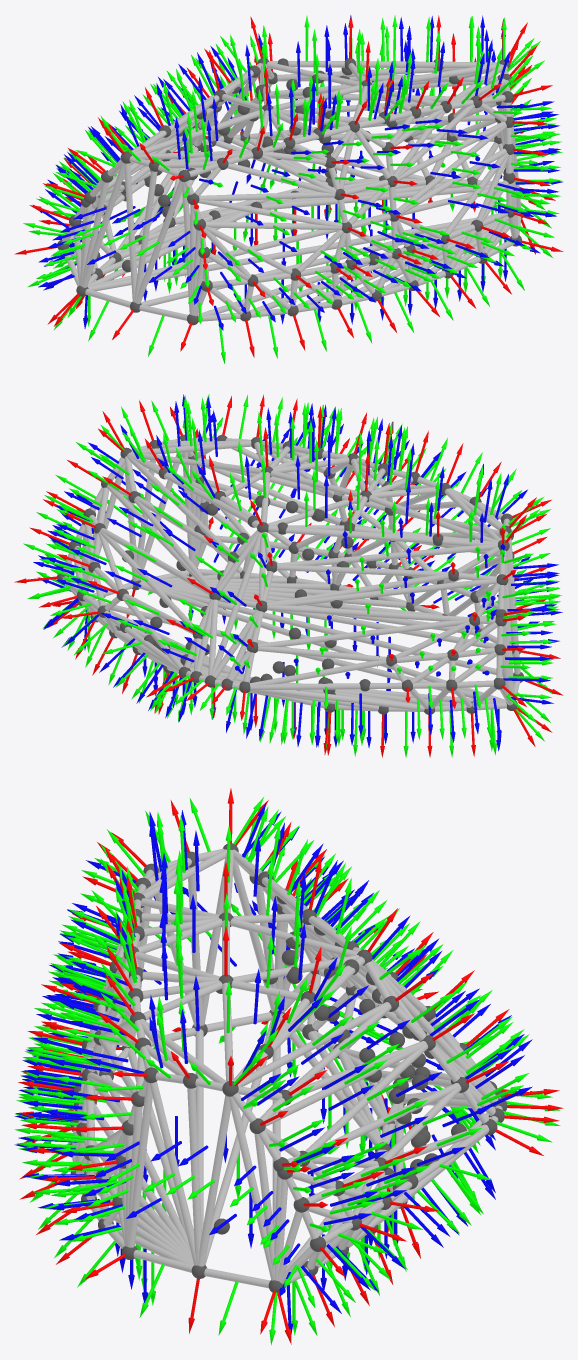
File: ils_speaker.gltf
The picture shows the model from 3 angles, top to bottom: view 1: azimuth 30°, elevation 25°; view 2: azimuth 150°, elevation 25°; view 3: azimuth 270°, elevation 25°; orthographic projection. The views are drawn at different scales.
Bounding box in the file's own units: 0.9561 × 0.4318 × 0.6811.
